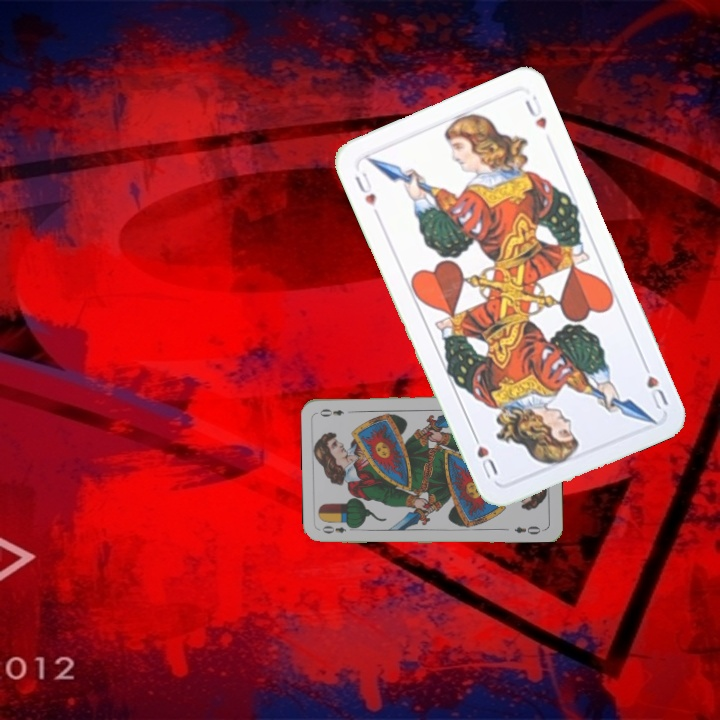EO: (318, 521, 358, 536)
HU: (638, 356, 671, 412), (351, 167, 382, 220)
